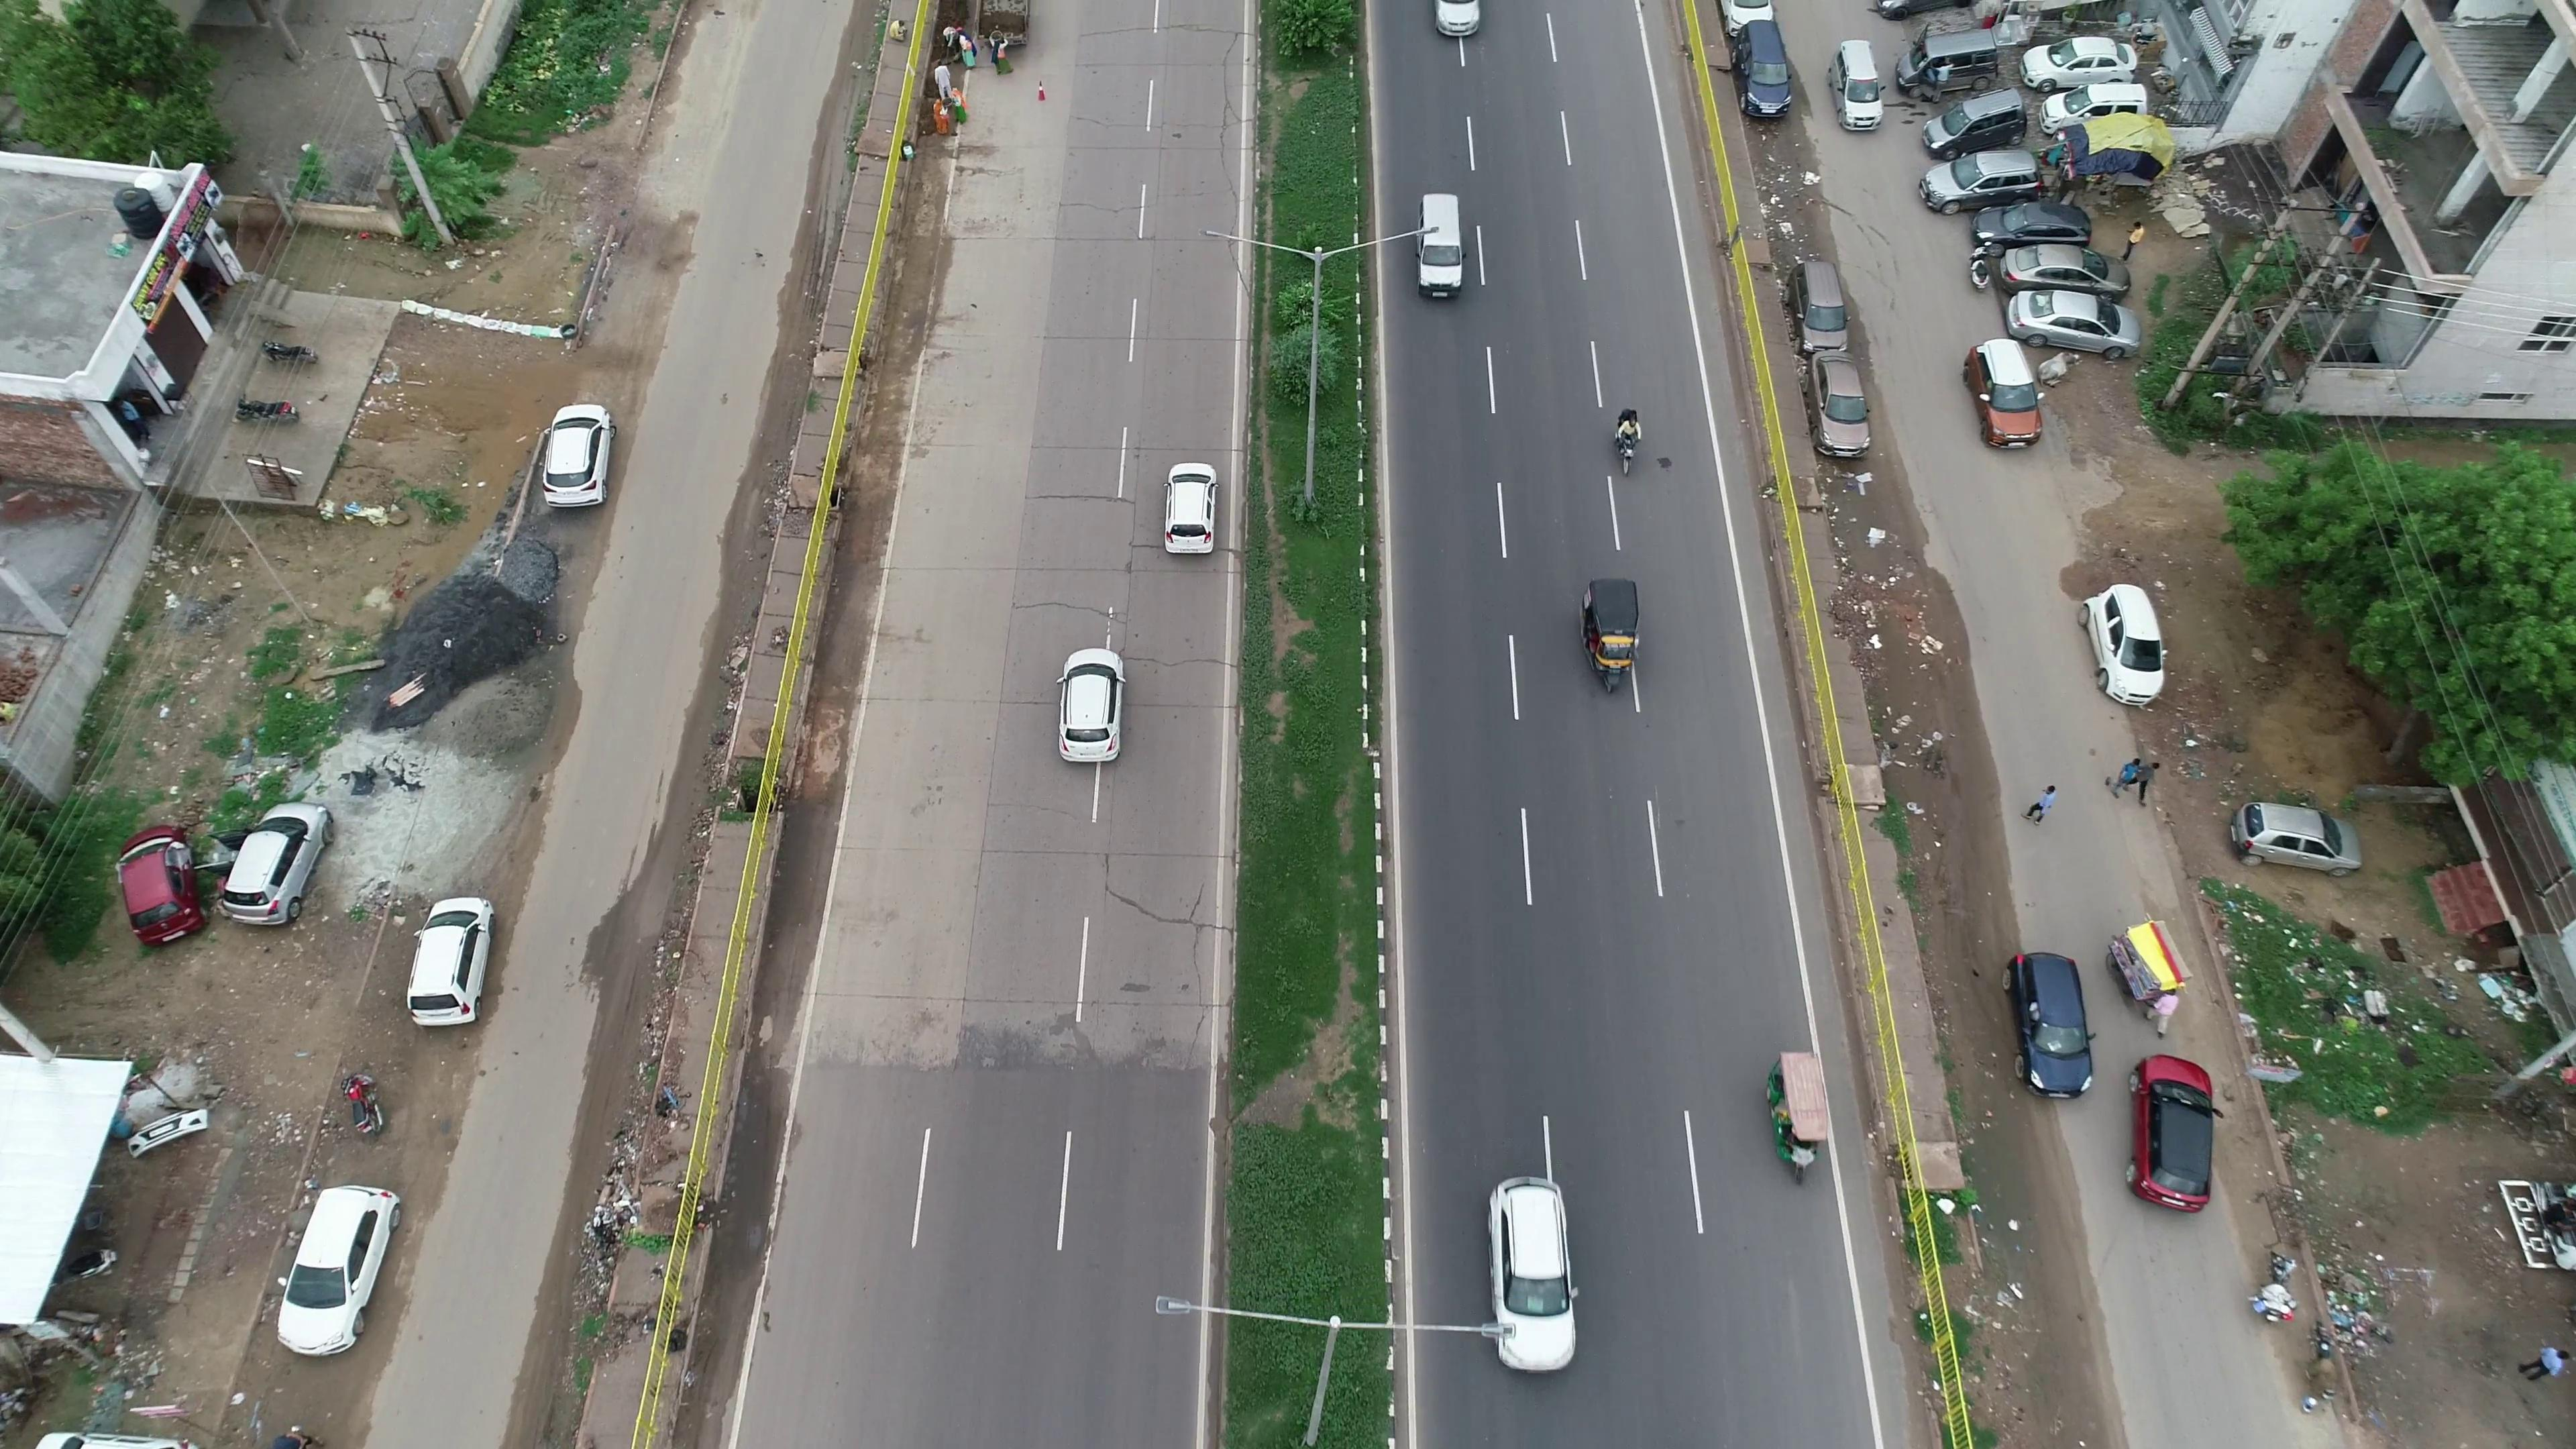Muddy_road: (1890, 596, 2029, 908)
